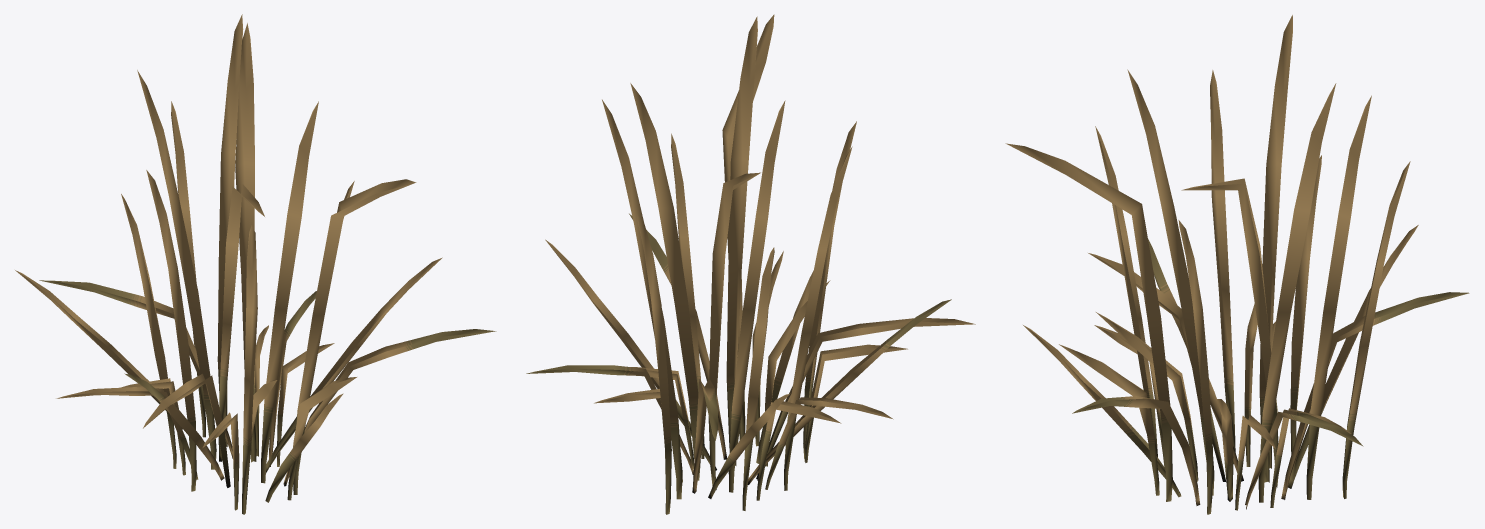
The model's file is Grass_Wispy_Tall__go_village.glb.
3 renders of one model, left to right at view 1: azimuth 30°, elevation 25°; view 2: azimuth 150°, elevation 25°; view 3: azimuth 270°, elevation 25°, orthographic. The views are drawn at different scales.
Parts seen in each view (by area): view 1: Grass_Wispy_Tall; view 2: Grass_Wispy_Tall; view 3: Grass_Wispy_Tall.
Boxes of the visible parts, left/top/right/bottom form: Grass_Wispy_Tall: left=15, top=14, right=496, bottom=514; Grass_Wispy_Tall: left=526, top=14, right=975, bottom=514; Grass_Wispy_Tall: left=1005, top=15, right=1469, bottom=514.
Bounding box in the file's own units: 1.54 × 1.67 × 1.59.
1 material, 1 textured.
